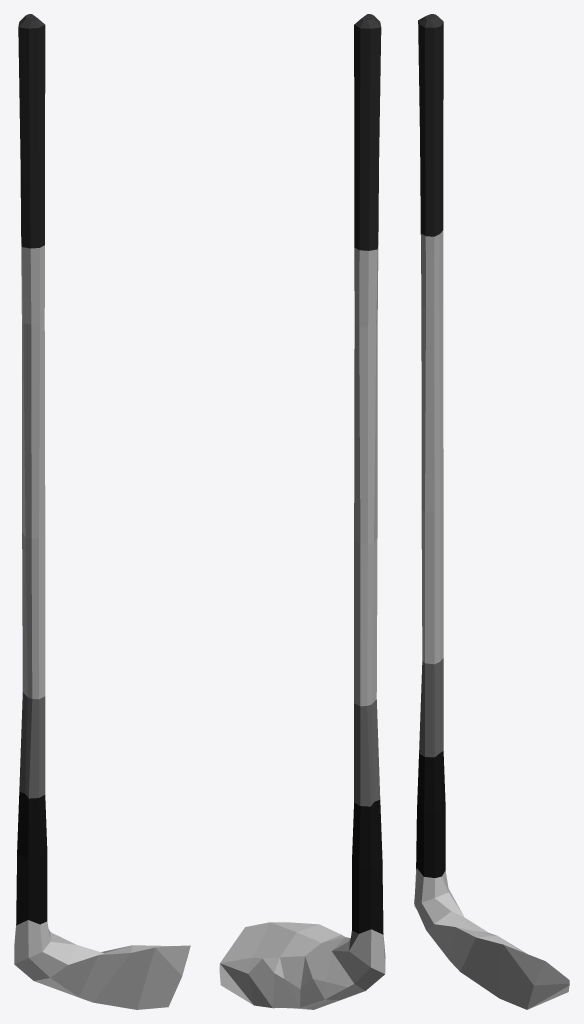
File: Iron.glb
3 views of the same model, side by side, from view 1: azimuth 30°, elevation 25°; view 2: azimuth 150°, elevation 25°; view 3: azimuth 330°, elevation 25° (orthographic). The views are drawn at different scales.
Visible parts, largest first — view 1: Iron; view 2: Iron; view 3: Iron.
Part boxes in pixels (x1=…): Iron: x1=14, y1=14, x2=190, y2=1009; Iron: x1=219, y1=14, x2=385, y2=1009; Iron: x1=414, y1=14, x2=569, y2=1009.
Size of what is drawn, in the model's own units: 0.2067 by 1.18 by 0.0734.
1 material, 1 textured.
